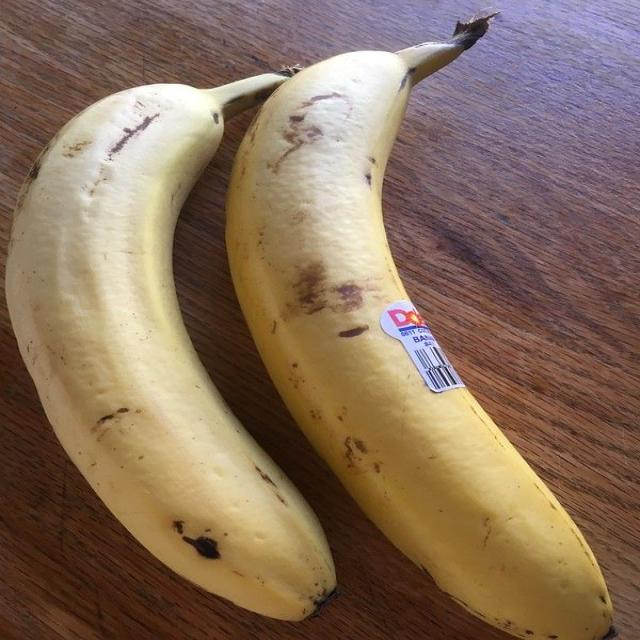unpeal banana: (228, 19, 614, 639), (7, 74, 334, 619)
